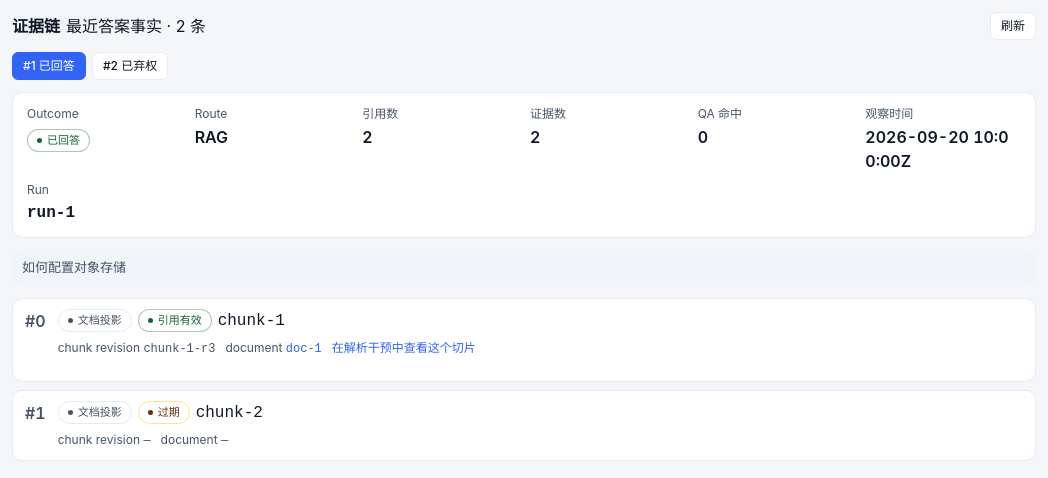
it: AnswerEvidencePanel › falls back to list mode on load without a run and can switch facts
expect the text "已回答" is shown: met, box top-left (27, 129), bottom-right (90, 152)
expect the element named "选择答案事实" is shown: met, box top-left (12, 52), bottom-right (168, 80)
What coordinates should you click on to do the following:
click the button "#2 已弃权"
I would click on:
 (130, 66)
Its box is top-left (92, 52), bottom-right (168, 80).
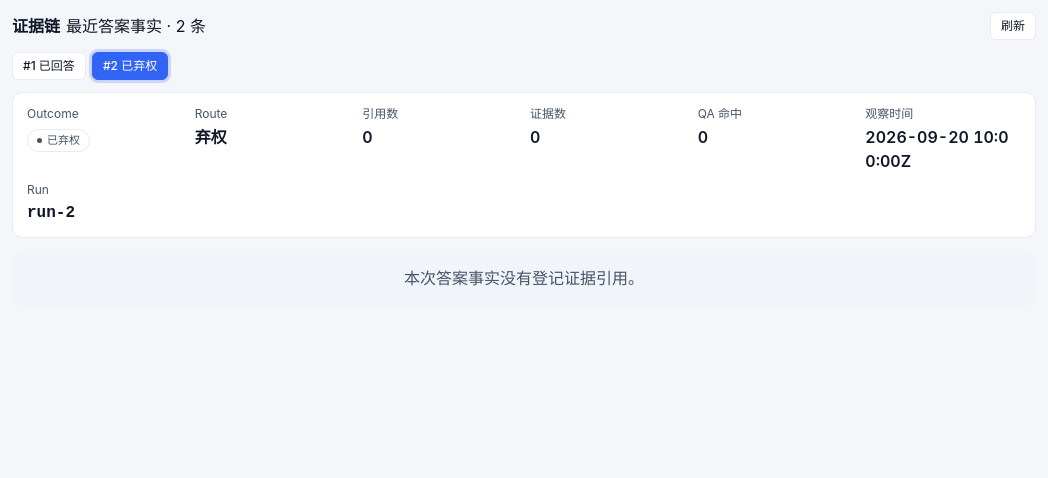
expect the text "已弃权" is shown: met, box top-left (27, 129), bottom-right (90, 152)
expect the text named "证据引用为空" is shown: met, box top-left (12, 250), bottom-right (1036, 306)
